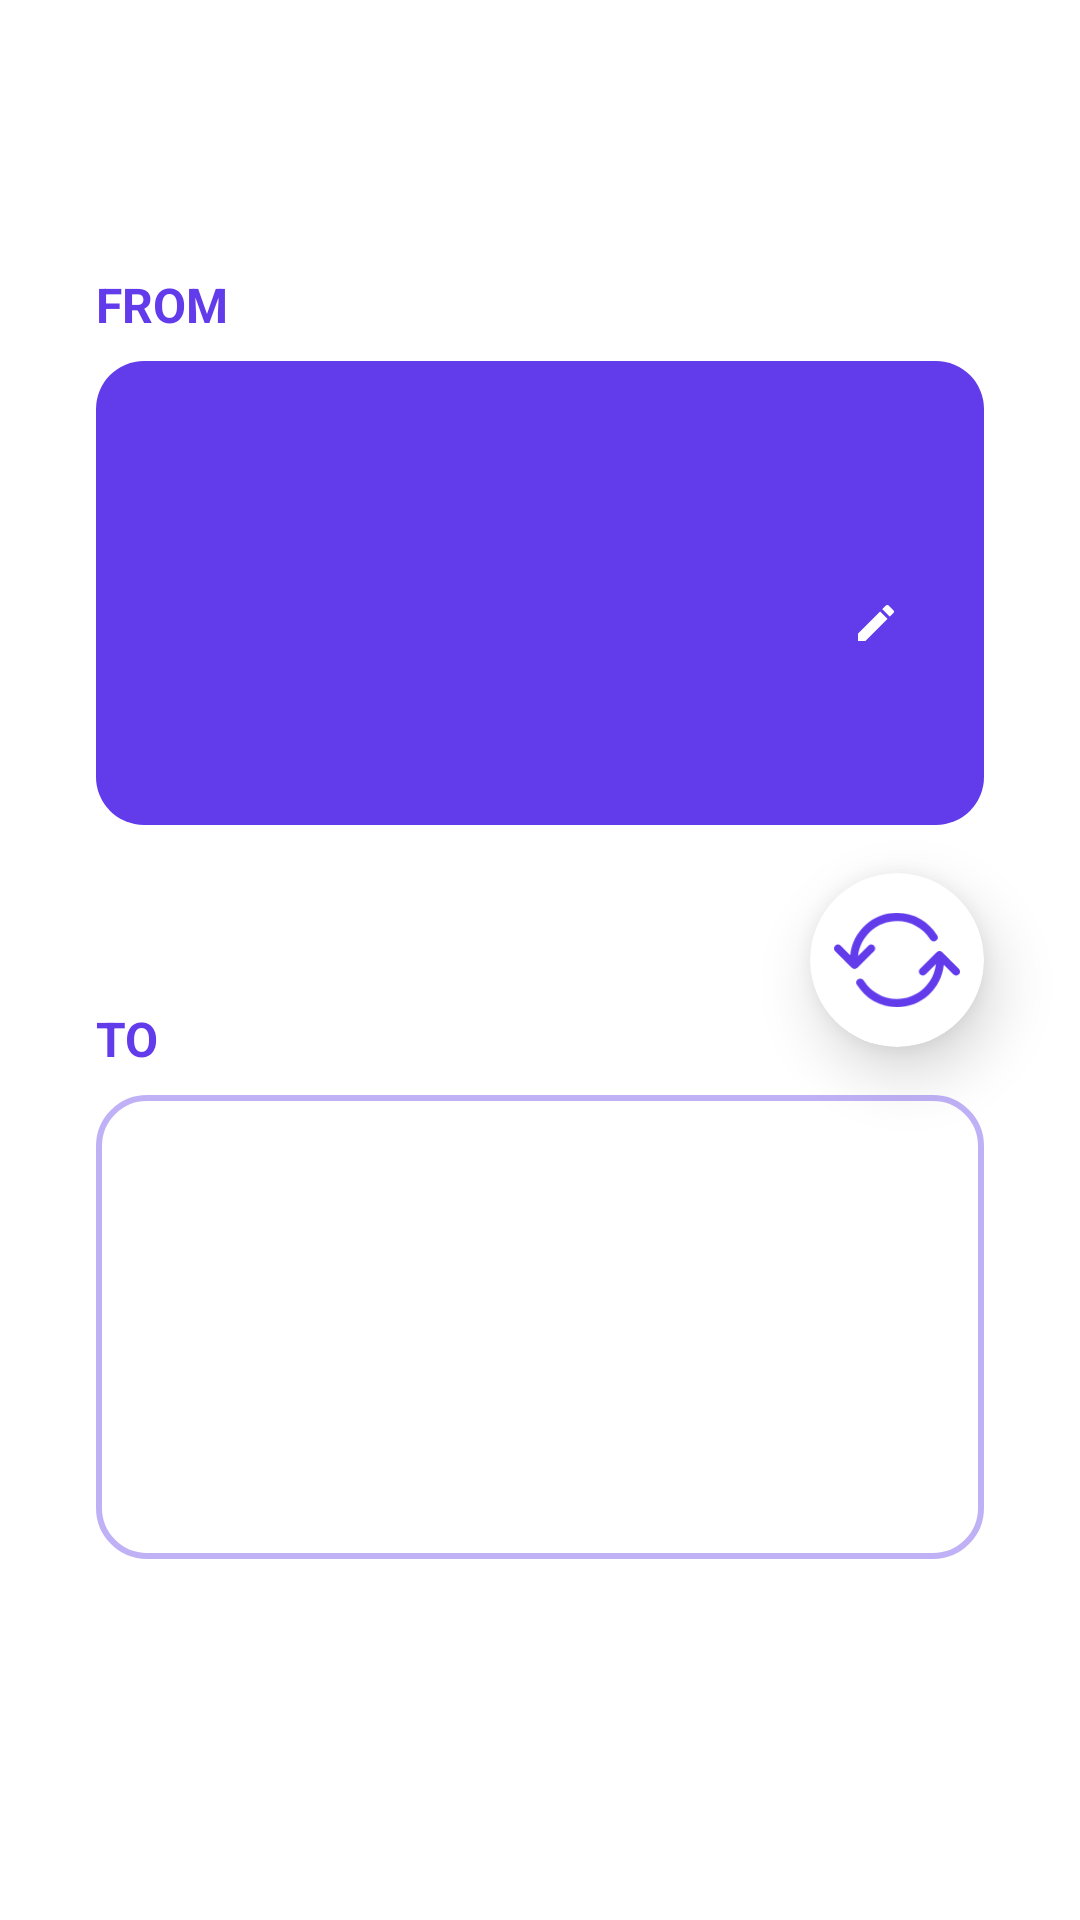

Named icons in this screenshot (1080x1920) and their centers, point (x, y):
Swap: point (897, 960)
